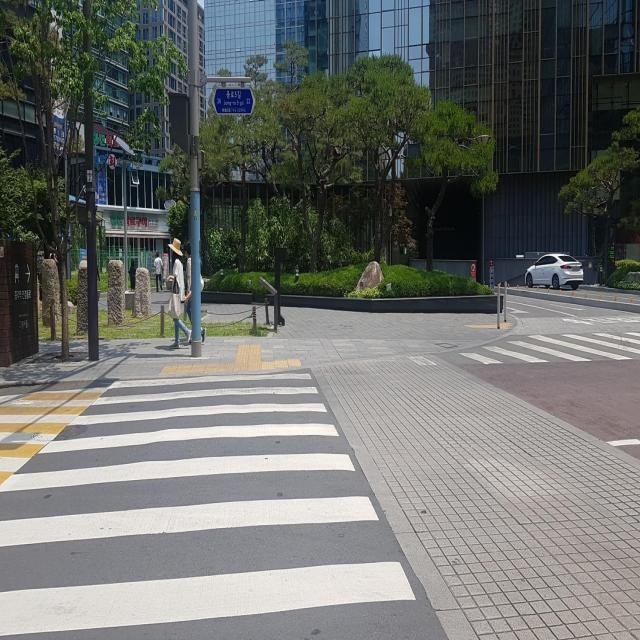횡단보도: (0, 372, 419, 640), (458, 330, 640, 368)
